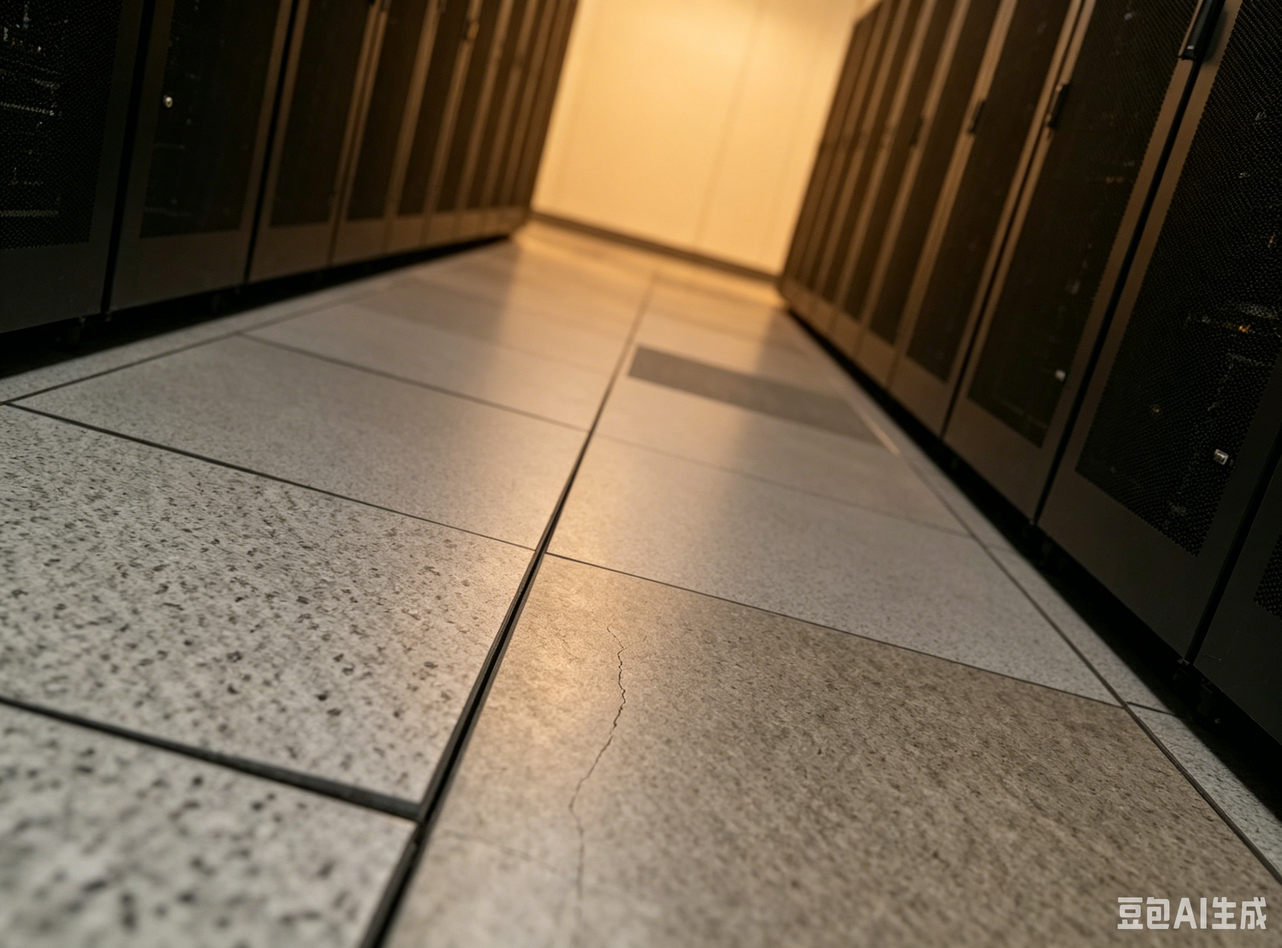floor_defect: (2, 675, 433, 829), (567, 625, 629, 910)
